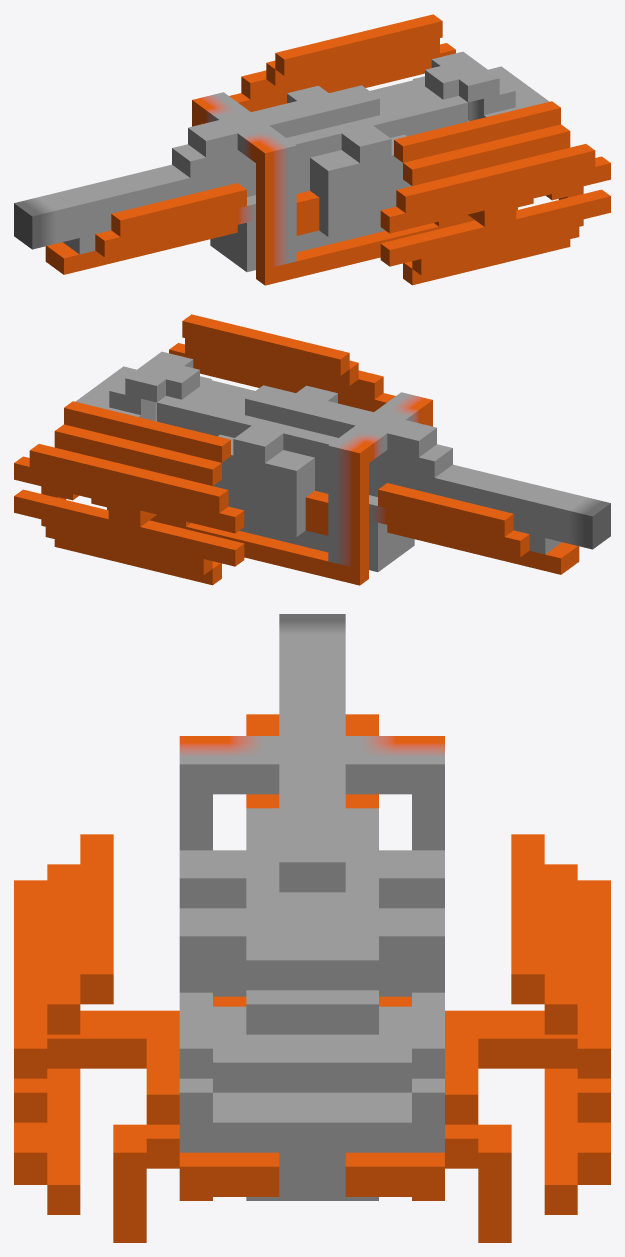
File: Player_5.fbx
The picture shows the model from 3 angles, top to bottom: view 1: azimuth 30°, elevation 25°; view 2: azimuth 150°, elevation 25°; view 3: azimuth 270°, elevation 25°; orthographic projection. The views are drawn at different scales.
Parts seen in each view (by area): view 1: Player_5; view 2: Player_5; view 3: Player_5.
Part boxes in pixels (box(x1,y1,x2,y2)): Player_5: box(14, 14, 610, 285); Player_5: box(14, 314, 610, 585); Player_5: box(14, 614, 610, 1242).
Size of the model in its own units: 33 by 8 by 18.
Materials: 1 (1 with a texture image).
